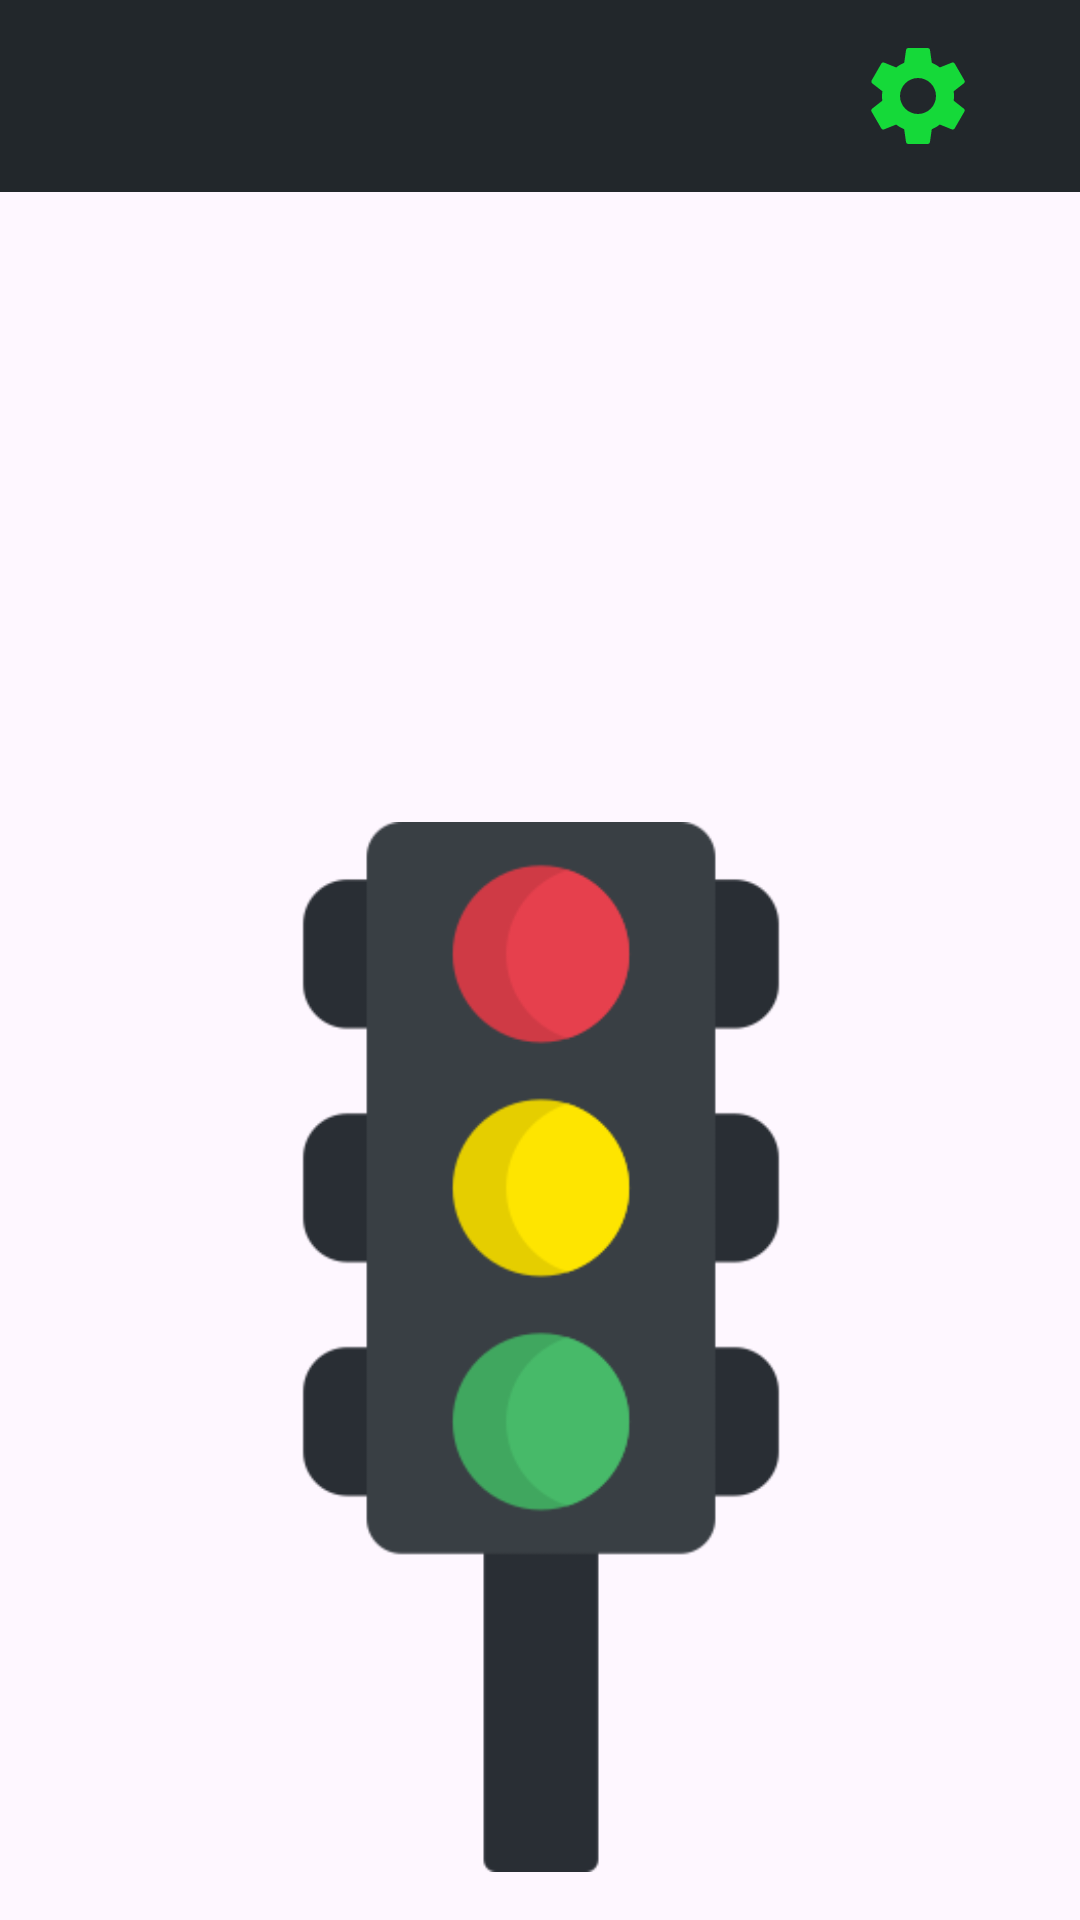

Named icons in this screenshot (1080*1920) and their bounding boxes, [left=x1, top=y1, right=x2, bottom=y2]:
settings: [left=871, top=48, right=965, bottom=144]
